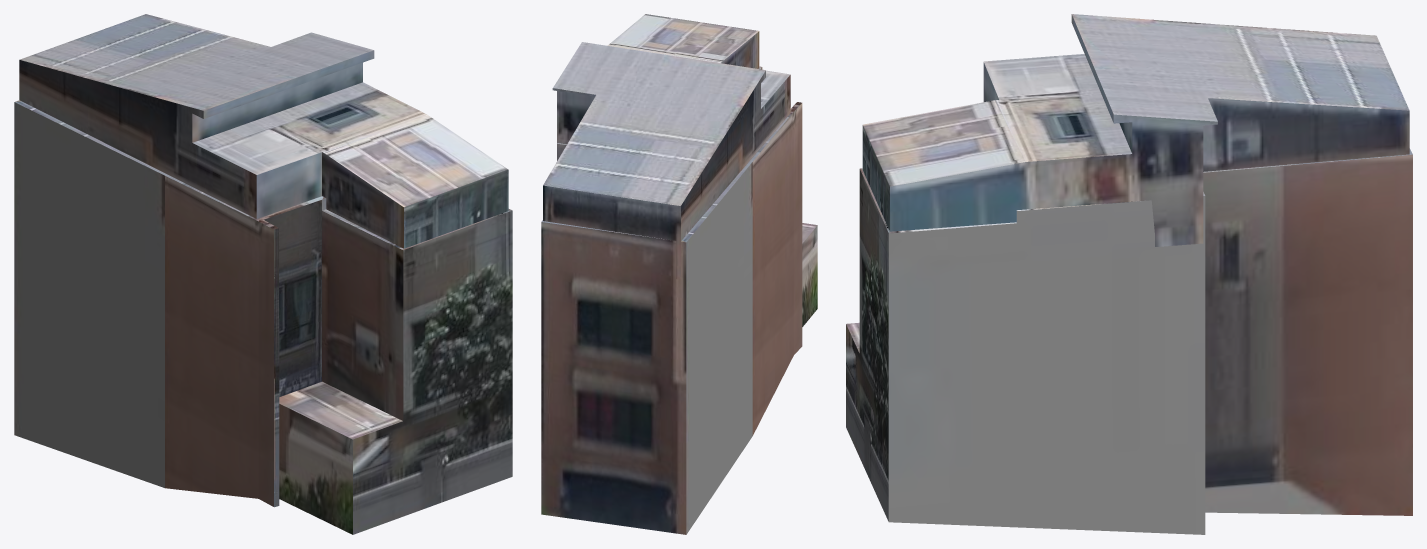
3 renders of one model, left to right at view 1: azimuth 30°, elevation 25°; view 2: azimuth 150°, elevation 25°; view 3: azimuth 270°, elevation 25°, orthographic. The views are drawn at different scales.
Parts seen in each view (by area): view 1: B280824033101063A0; view 2: B280824033101063A0; view 3: B280824033101063A0.
Boxes of the visible parts, left/top/right/bottom form: B280824033101063A0: left=14, top=14, right=512, bottom=534; B280824033101063A0: left=541, top=14, right=817, bottom=534; B280824033101063A0: left=846, top=14, right=1412, bottom=534.
Size of the model in its own units: 8.61 by 12.46 by 14.23.
1 material, 1 textured.
